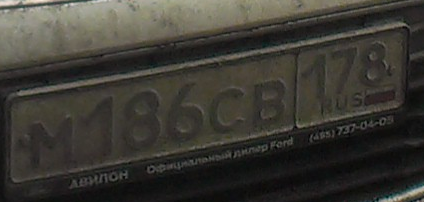character: (118, 88, 164, 156), (163, 79, 206, 151), (30, 113, 76, 170), (208, 80, 248, 143), (80, 92, 117, 160), (251, 75, 289, 132), (358, 38, 391, 89), (298, 49, 329, 103), (328, 46, 357, 100)
